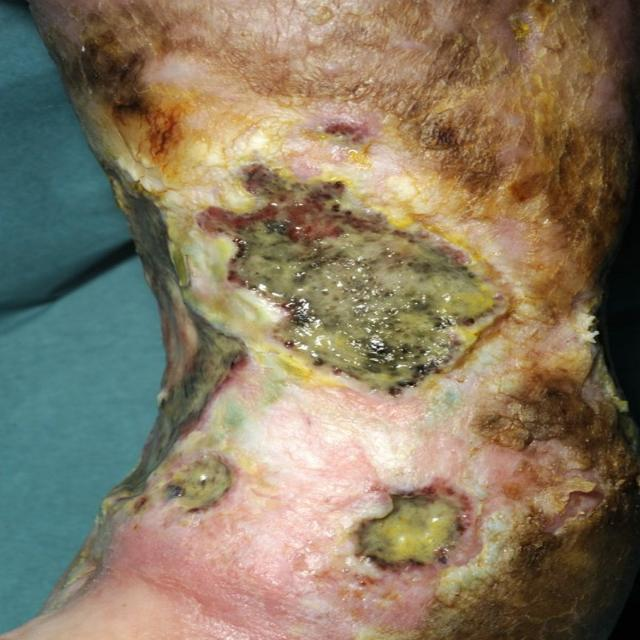wound: (103, 165, 536, 577)
